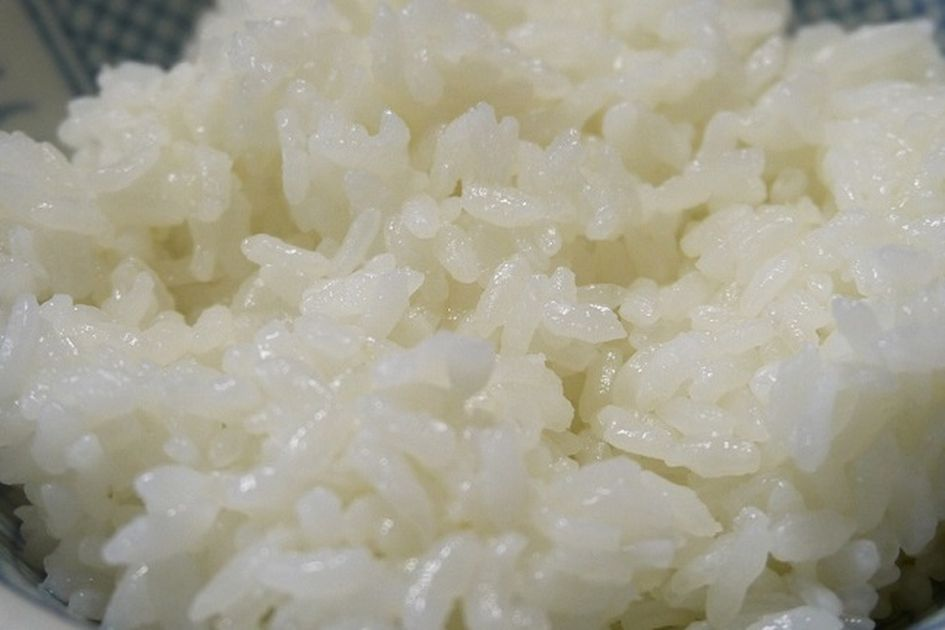Nasi Putih: (10, 10, 933, 613)
